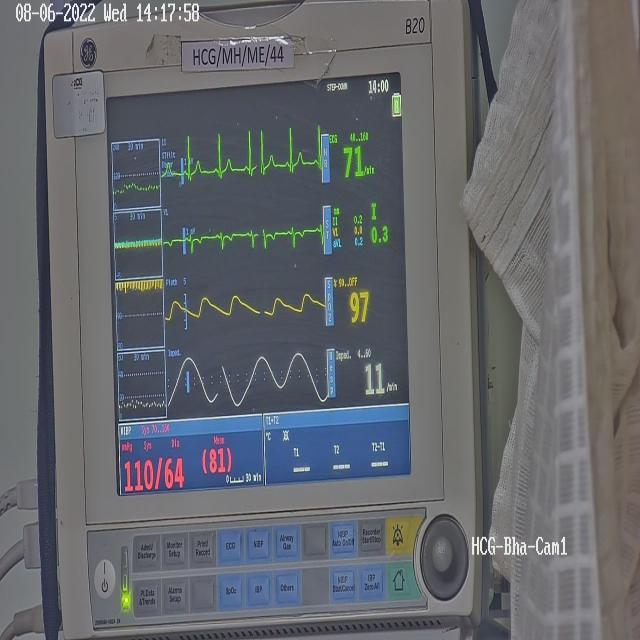Monitor: (35, 0, 491, 638)
